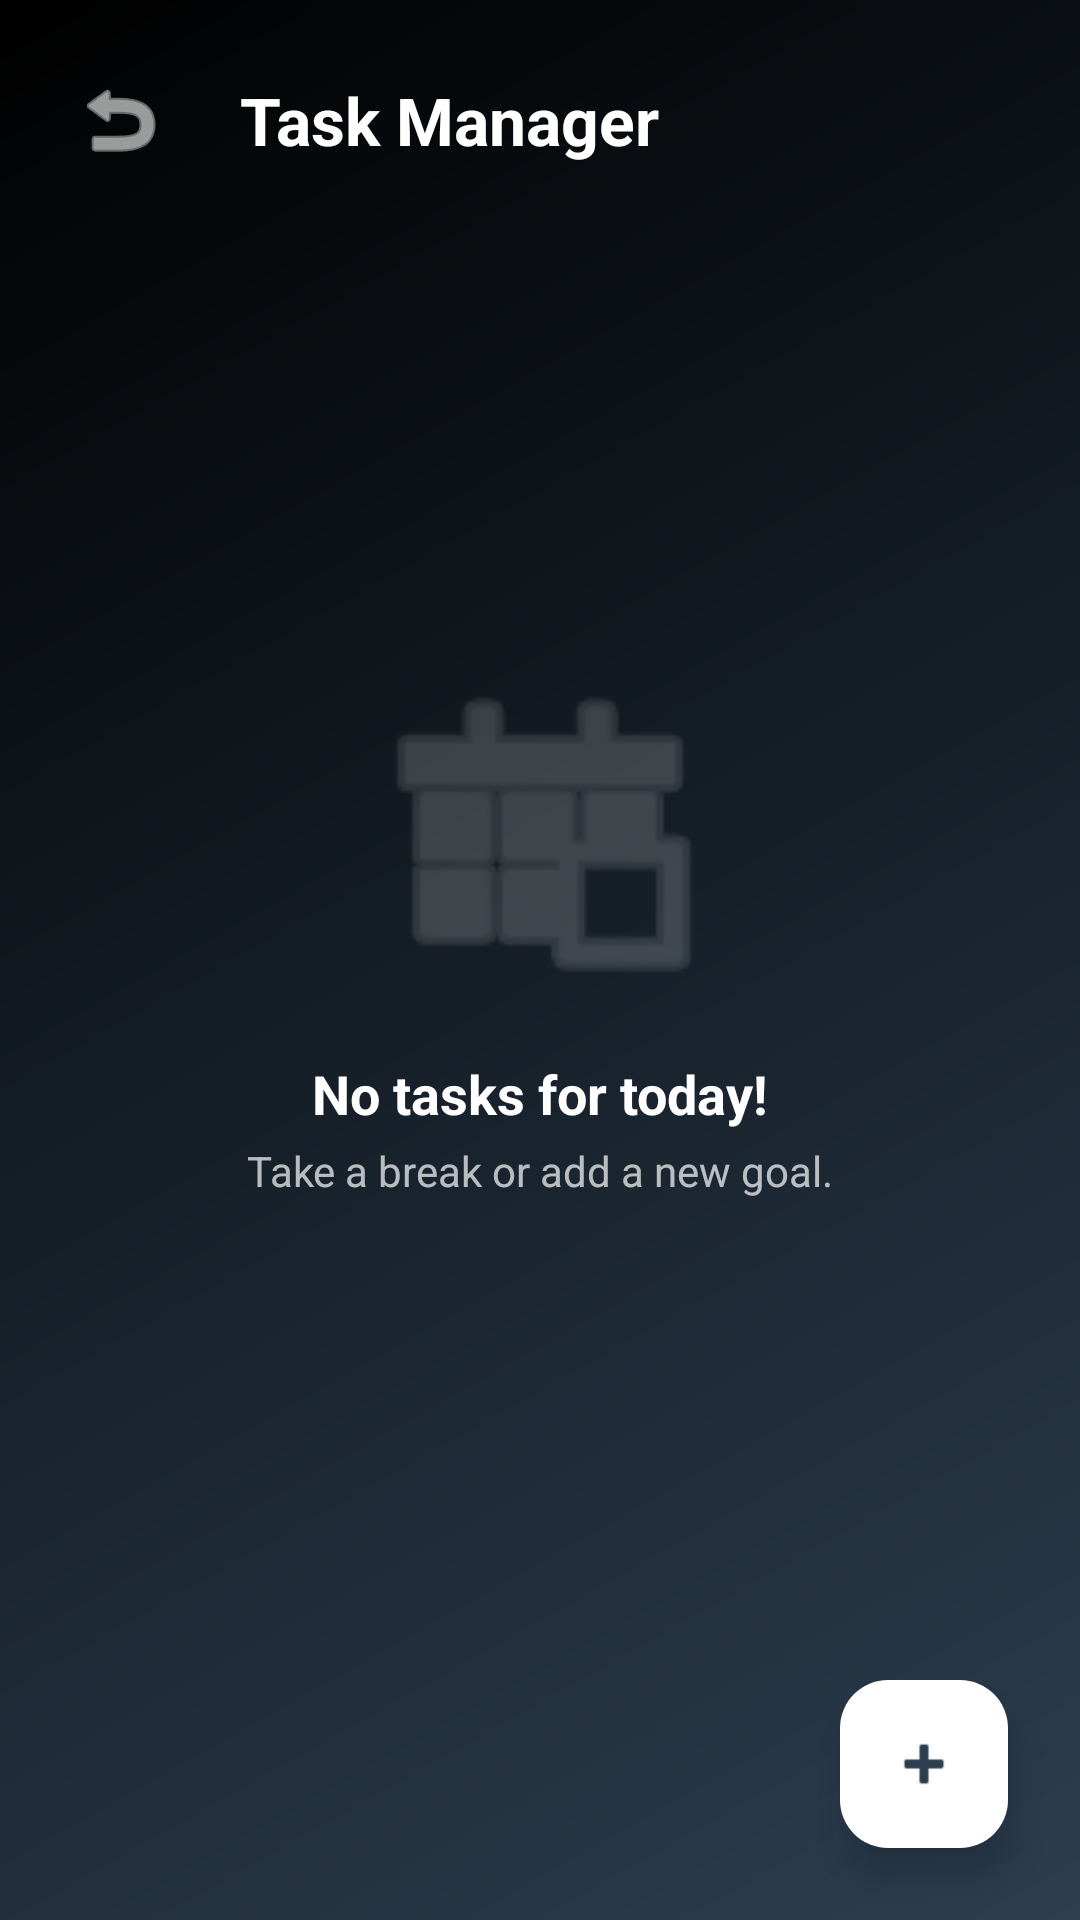

Icon click points for this 1080 × 1920 phone screenshot, format point (x, y):
Add Task: point (924, 1764)
revert: point (121, 120)
